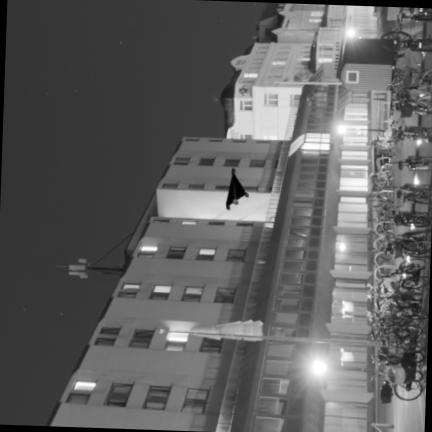Shahed: (226, 168, 248, 209)
